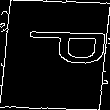P_E: (6, 35, 104, 75)
